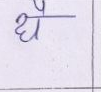ai_matra: (33, 0, 48, 16)
